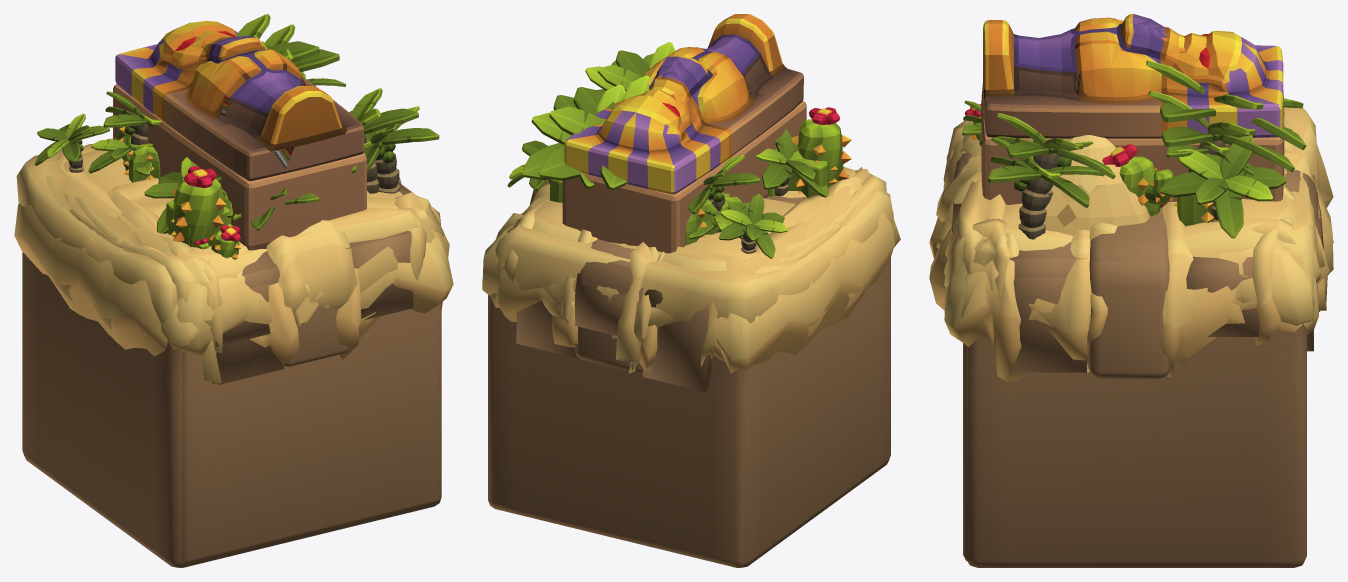
Rendered from Desert_Cubesv2.fbx.
3 renders of one model, left to right at view 1: azimuth 30°, elevation 25°; view 2: azimuth 150°, elevation 25°; view 3: azimuth 270°, elevation 25°, orthographic. The views are drawn at different scales.
Visible parts, largest first — view 1: Desert4.001, Desert_Cube_03 .004, Desert9.001, Spring_Cube5.006, Spring_Cube10.006, Spring_Cube11.005, Spring_Cube12.005, Spring_Cube4.006, Spring_Cube6.006, Spring_Cube1.004, Desert_Cube_02 .003, Road6.005 (+13 smaller); view 2: Desert9.001, Desert_Cube_03 .004, Spring_Cube11.005, Spring_Cube5.006, Spring_Cube10.006, Desert_Cube_12.003, Road5.005, Road.005, Desert_Cube_01.003, Desert_Cube_02 .003, Desert_Cube_11.003, Cube_Base.023 (+10 smaller); view 3: Desert9.001, Desert_Cube_03 .004, Road.005, Desert_Cube_05 .003, Spring_Cube2.007, Spring_Cube4.006, Spring_Cube10.006, Desert_Cube_09 .003, Desert_Cube_04 .003, Spring_Cube11.005, Spring_Cube1.004, Springroad4.004 (+11 smaller).
Boxes of the visible parts, x1=… form: Desert4.001: x1=182, y1=303, x2=441, y2=564; Desert_Cube_03 .004: x1=113, y1=20, x2=366, y2=259; Desert9.001: x1=22, y1=252, x2=441, y2=567; Spring_Cube5.006: x1=14, y1=175, x2=221, y2=383; Spring_Cube10.006: x1=59, y1=144, x2=436, y2=353; Spring_Cube11.005: x1=16, y1=138, x2=212, y2=326; Spring_Cube12.005: x1=159, y1=192, x2=443, y2=308; Spring_Cube4.006: x1=176, y1=205, x2=453, y2=358; Spring_Cube6.006: x1=64, y1=178, x2=423, y2=329; Spring_Cube1.004: x1=53, y1=268, x2=380, y2=364; Desert_Cube_02 .003: x1=171, y1=166, x2=231, y2=247; Road6.005: x1=216, y1=258, x2=284, y2=384; Desert9.001: x1=488, y1=257, x2=890, y2=567; Desert_Cube_03 .004: x1=562, y1=14, x2=806, y2=253; Spring_Cube11.005: x1=495, y1=169, x2=893, y2=325; Spring_Cube5.006: x1=495, y1=167, x2=895, y2=373; Spring_Cube10.006: x1=522, y1=173, x2=872, y2=318; Desert_Cube_12.003: x1=538, y1=75, x2=718, y2=245; Road5.005: x1=642, y1=289, x2=711, y2=392; Road.005: x1=530, y1=180, x2=634, y2=370; Desert_Cube_01.003: x1=549, y1=129, x2=829, y2=239; Desert_Cube_02 .003: x1=768, y1=107, x2=851, y2=196; Desert_Cube_11.003: x1=719, y1=194, x2=787, y2=258; Cube_Base.023: x1=574, y1=195, x2=807, y2=335; Desert9.001: x1=968, y1=323, x2=1306, y2=567; Desert_Cube_03 .004: x1=965, y1=14, x2=1284, y2=207; Road.005: x1=1088, y1=169, x2=1319, y2=378; Desert_Cube_05 .003: x1=1043, y1=91, x2=1294, y2=235; Spring_Cube2.007: x1=944, y1=142, x2=1329, y2=376; Spring_Cube4.006: x1=943, y1=139, x2=1328, y2=381; Spring_Cube10.006: x1=936, y1=117, x2=1318, y2=290; Desert_Cube_09 .003: x1=988, y1=137, x2=1173, y2=239; Desert_Cube_04 .003: x1=962, y1=100, x2=1286, y2=238; Spring_Cube11.005: x1=1048, y1=107, x2=1321, y2=345; Spring_Cube1.004: x1=929, y1=217, x2=1333, y2=360; Springroad4.004: x1=1011, y1=242, x2=1086, y2=372.
Size of the model in its own units: 121 by 162 by 122.
